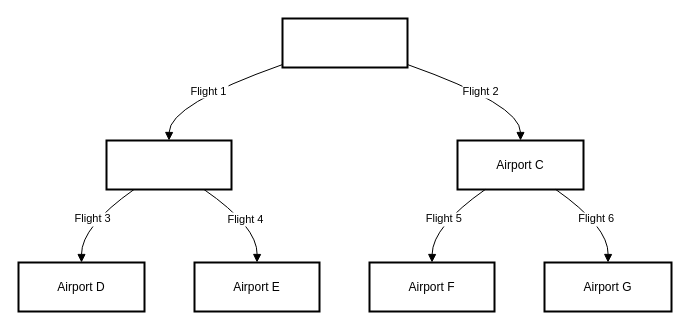
Some shapes in this 689 by 329 pixel diagram are drawn without their labels. Each missing label, with the box of its shape:
Airport A: (281, 17, 408, 68)
Airport B: (105, 139, 232, 190)
